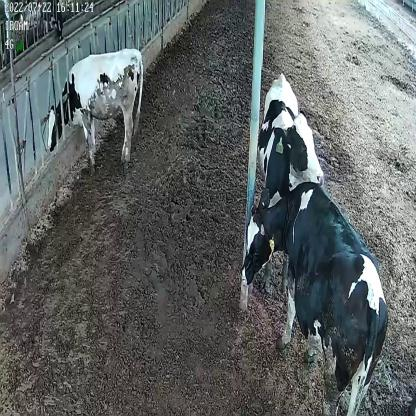cow: (239, 175, 389, 416), (44, 48, 145, 173), (257, 68, 324, 192)
